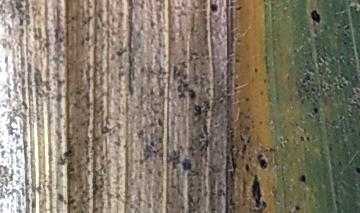tarspot: (252, 174, 262, 213), (310, 9, 322, 23), (182, 158, 193, 171), (60, 148, 74, 158), (187, 87, 196, 100), (194, 103, 203, 115), (210, 3, 219, 13), (260, 160, 267, 169), (299, 174, 306, 183), (233, 5, 242, 12), (262, 199, 267, 211), (245, 162, 251, 172), (355, 166, 360, 176), (253, 65, 259, 73), (312, 107, 318, 114), (257, 152, 263, 159), (262, 77, 268, 84), (299, 135, 305, 141), (244, 96, 250, 102), (295, 205, 300, 212), (306, 135, 311, 141)
